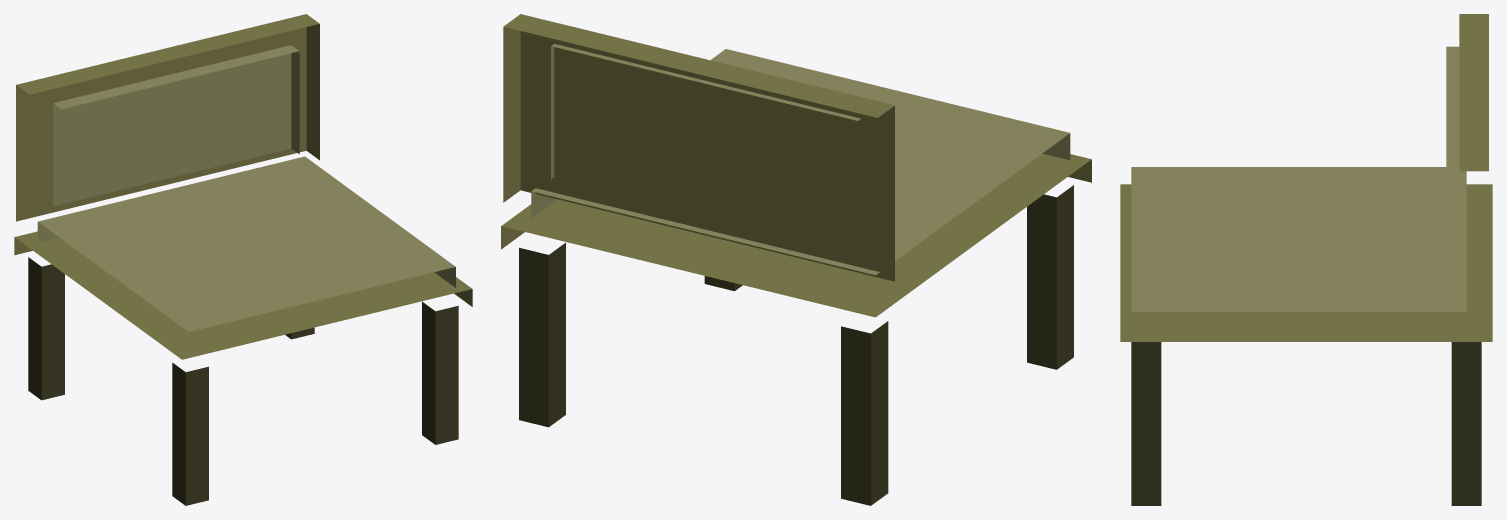
Rendered from Chair-olive.glb.
3 views of the same model, side by side, from view 1: azimuth 30°, elevation 25°; view 2: azimuth 150°, elevation 25°; view 3: azimuth 270°, elevation 25° (orthographic). The views are drawn at different scales.
Parts seen in each view (by area): view 1: Chair; view 2: Chair; view 3: Chair.
Part boxes in pixels (left/top/right/bottom): Chair: left=14, top=14, right=472, bottom=505; Chair: left=501, top=14, right=1091, bottom=505; Chair: left=1120, top=14, right=1492, bottom=505.
Bounding box in the file's own units: 1 × 1 × 1.
